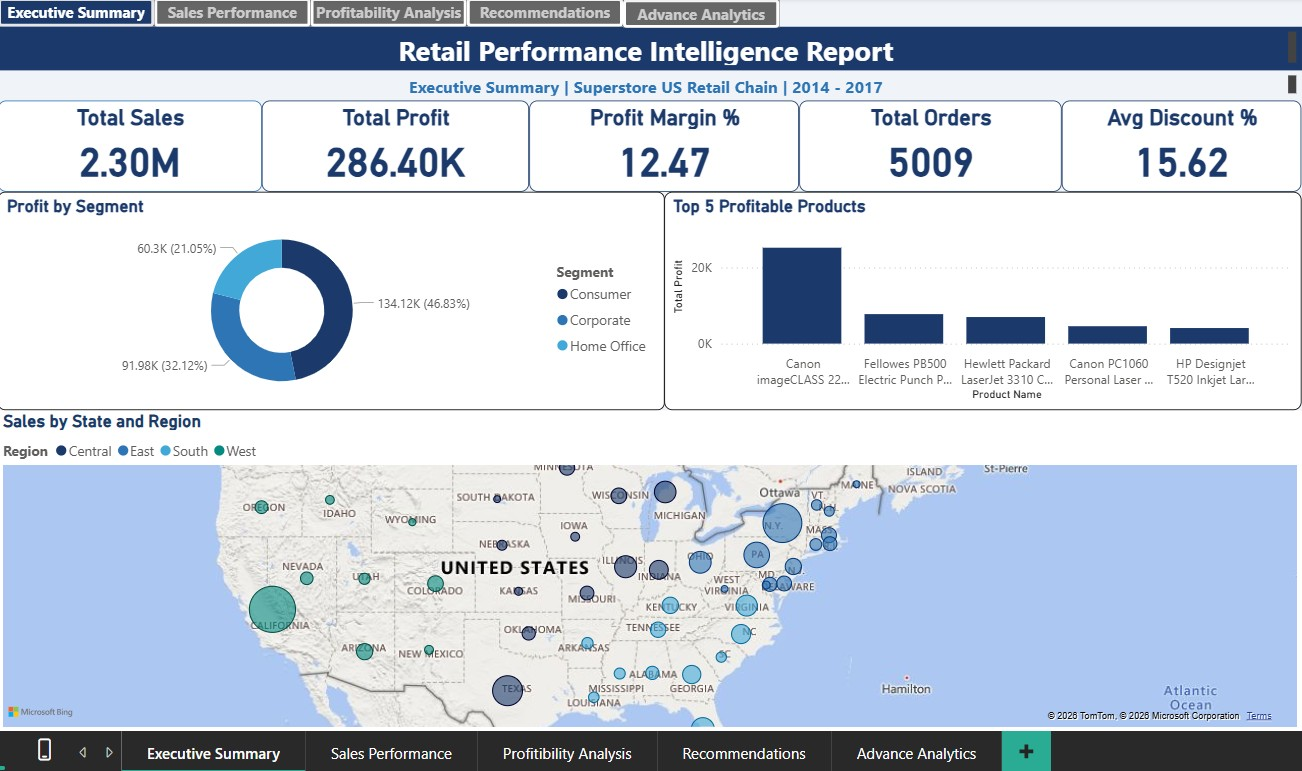

This screenshot's page, from the dashboard's own definition file:
{"tool":"powerbi","page":{"name":"Executive Summary","canvas":[1280,720],"ordinal":0},"visuals":[{"type":"textbox","box":[0,28.2,1279.8,42.9],"z":0},{"type":"textbox","box":[0,71.2,1279.8,29.4],"z":1000},{"type":"card","title":"Total Sales","fields":{"Values":["Sample - Superstore.Total Sales"]},"box":[0,100.6,258.9,89.6],"z":2000},{"type":"card","title":"Total Profit","fields":{"Values":["Sample - Superstore.Total Profit"]},"box":[258.9,100.6,262.6,89.6],"z":3000},{"type":"card","title":"Profit Margin %","fields":{"Values":["Sample - Superstore.Profit Margin %"]},"box":[521.5,100.6,265,89.6],"z":4000},{"type":"card","title":"Total Orders","fields":{"Values":["Sample - Superstore.Total Orders"]},"box":[786.5,100.6,257.7,89.6],"z":5000},{"type":"card","title":"Avg Discount %","fields":{"Values":["Sample - Superstore.Avg Discount %"]},"box":[1044.2,100.6,235.6,89.6],"z":6000},{"type":"map","title":"Sales by State and Region","fields":{"Category":["Sample - Superstore.State"],"Series":["Sample - Superstore.Region"],"Size":["Sample - Superstore.Total Sales"]},"box":[0,404.8,1280.3,315.6],"z":7000},{"type":"donutChart","title":"Profit by Segment","fields":{"Category":["Sample - Superstore.Segment"],"Y":["Sample - Superstore.Total Profit"]},"box":[0,190.7,654.5,214.1],"z":8000},{"type":"clusteredColumnChart","title":"Top 5 Profitable Products","fields":{"Category":["Sample - Superstore.Product Name"],"Y":["Sample - Superstore.Total Profit"]},"box":[654.5,190.7,625.7,214.1],"z":9000},{"type":"actionButton","title":"Executive Summary","box":[0,0,153.4,28.2],"z":10000},{"type":"actionButton","title":"Executive Summary","box":[153.4,0,153.4,28.2],"z":11000},{"type":"actionButton","title":"Executive Summary","box":[306.8,0,153.4,28.2],"z":12000},{"type":"actionButton","title":"Executive Summary","box":[460.1,0,153.4,28.2],"z":13000},{"type":"actionButton","title":"Executive Summary","box":[613.5,1.2,153.4,28.2],"z":14000}]}

Visuals, with their boxes on the page's 1280x720 design canvas (x1, y1, x2, y2). These are canvas units, not pixel positions in the 1302x771 screenshot, which may show the page scaled, cropped or inside an application window:
textbox: (left=0, top=28, right=1280, bottom=71)
textbox: (left=0, top=71, right=1280, bottom=101)
"Total Sales" card: (left=0, top=101, right=259, bottom=190)
"Total Profit" card: (left=259, top=101, right=522, bottom=190)
"Profit Margin %" card: (left=522, top=101, right=786, bottom=190)
"Total Orders" card: (left=786, top=101, right=1044, bottom=190)
"Avg Discount %" card: (left=1044, top=101, right=1280, bottom=190)
"Sales by State and Region" map: (left=0, top=405, right=1280, bottom=720)
"Profit by Segment" donutChart: (left=0, top=191, right=654, bottom=405)
"Top 5 Profitable Products" clusteredColumnChart: (left=654, top=191, right=1280, bottom=405)
"Executive Summary" actionButton: (left=0, top=0, right=153, bottom=28)
"Executive Summary" actionButton: (left=153, top=0, right=307, bottom=28)
"Executive Summary" actionButton: (left=307, top=0, right=460, bottom=28)
"Executive Summary" actionButton: (left=460, top=0, right=614, bottom=28)
"Executive Summary" actionButton: (left=614, top=1, right=767, bottom=29)
